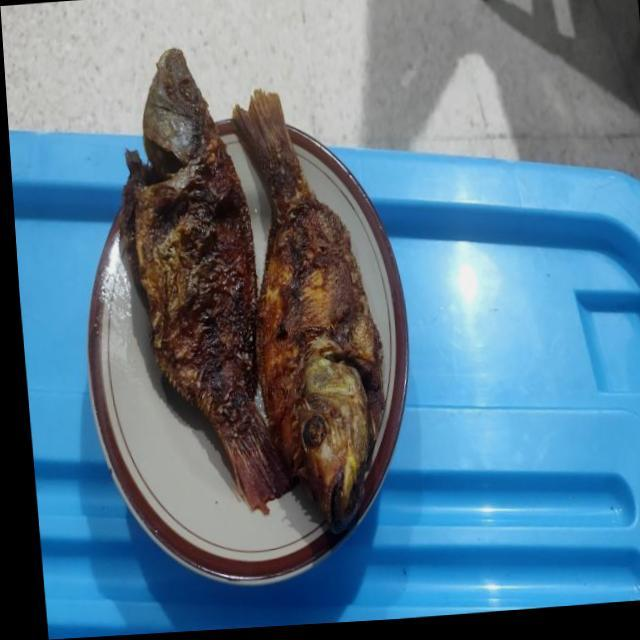ikan_mujair: (120, 49, 291, 508), (232, 90, 385, 532)
